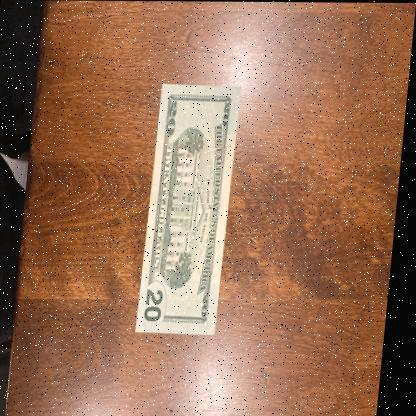dollar_back: (140, 84, 243, 334)
